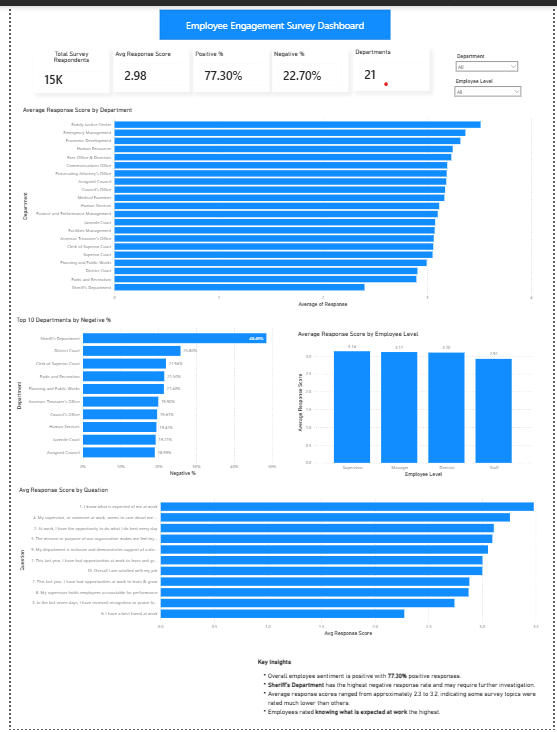

This screenshot's page, from the dashboard's own definition file:
{"tool":"powerbi","page":{"name":"Page 1","canvas":[1500,2000],"ordinal":0},"visuals":[{"type":"cardVisual","title":"Total Survey Respondents","fields":{"Data":["Data Dictionary.Total Survey Respondents"]},"box":[62,119.8,210,118.9],"z":0},{"type":"cardVisual","title":"Avg Response Score","fields":{"Data":["Data Dictionary.Avg Response Score"]},"box":[282.1,120,210,117],"z":1000},{"type":"cardVisual","title":"Positive %","fields":{"Data":["Data Dictionary.Positive %"]},"box":[502.9,120,210,117],"z":2000},{"type":"cardVisual","title":"Negative %","fields":{"Data":["Data Dictionary.Negative %"]},"box":[723.7,120,210,117],"z":3000},{"type":"cardVisual","title":"Departments","fields":{"Data":["Data Dictionary.Dept Surveyed"]},"box":[946.5,118,210,117.5],"z":4000},{"type":"clusteredBarChart","title":"Average Response Score by Department","fields":{"Category":["HR Survey Reponses.Department"],"Y":["Avg(HR Survey Reponses.Response)"]},"box":[28,278,1420,562],"z":5000},{"type":"clusteredBarChart","title":"Top 10 Departments by Negative %","fields":{"Category":["HR Survey Reponses.Department"],"Y":["Data Dictionary.Negative %"]},"box":[10.3,856.7,756.7,448.3],"z":6000},{"type":"clusteredBarChart","fields":{"Y":["Data Dictionary.Avg Response Score"],"Category":["HR Survey Reponses.Question"]},"box":[18.6,1328.3,1446.7,420],"z":7000},{"type":"clusteredColumnChart","fields":{"Category":["Employee Level Analysis.Employee Level"],"Y":["Data Dictionary.Average Response Score"]},"box":[788,894,658,412],"z":8000},{"type":"shape","box":[410,10,637.5,82.5],"z":9000},{"type":"slicer","fields":{"Values":["HR Survey Reponses.Department"]},"box":[1218.6,122.9,191.4,67.1],"z":10000},{"type":"slicer","fields":{"Values":["HR Survey Reponses.Employee Level"]},"box":[1216.3,193.5,203.9,62.2],"z":11000},{"type":"textbox","box":[677,1796.7,801.7,203.3],"z":12000}]}

Visuals, with their boxes in screenshot pixels (x1, y1, x2, y2), scaled from the page's 1500x2000 canvas onto the 557x732 screenshot:
"Total Survey Respondents" cardVisual: region(23, 44, 101, 87)
"Avg Response Score" cardVisual: region(105, 44, 183, 87)
"Positive %" cardVisual: region(187, 44, 265, 87)
"Negative %" cardVisual: region(269, 44, 347, 87)
"Departments" cardVisual: region(351, 43, 429, 86)
"Average Response Score by Department" clusteredBarChart: region(10, 102, 538, 307)
"Top 10 Departments by Negative %" clusteredBarChart: region(4, 314, 285, 478)
clusteredBarChart - Data Dictionary.Avg Response Score x HR Survey Reponses.Question: region(7, 486, 544, 640)
clusteredColumnChart - Employee Level Analysis.Employee Level x Data Dictionary.Average Response Score: region(293, 327, 537, 478)
shape: region(152, 4, 389, 34)
slicer - HR Survey Reponses.Department: region(453, 45, 524, 70)
slicer - HR Survey Reponses.Employee Level: region(452, 71, 527, 94)
textbox: region(251, 658, 549, 731)
